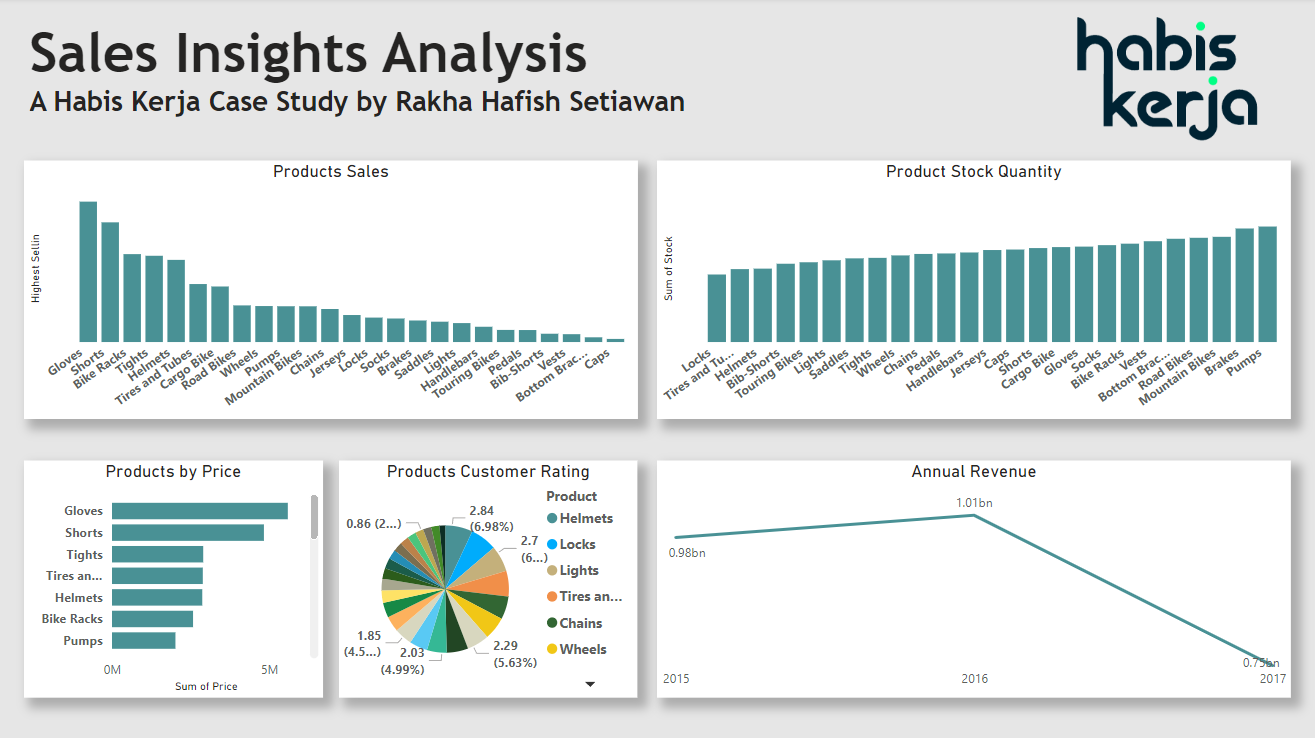

What the dashboard file says about the page in this screenshot:
{"tool":"powerbi","page":{"name":"Sales Insights","canvas":[1280,720],"ordinal":0},"visuals":[{"type":"clusteredBarChart","title":"Products by Price","fields":{"Category":["Sheet1.Product"],"Y":["Sum(Sheet1.Price)"]},"box":[26.2,432,289.5,267.6],"z":0},{"type":"pieChart","title":"Products Customer Rating","fields":{"Category":["Sheet1.Product"],"Y":["Sum(Sheet1.Rating)"]},"box":[331.6,432,289.5,267.6],"z":1000},{"type":"lineChart","title":"Annual Revenue","fields":{"Y":["Sum(Sheet1.Revenue)"],"Category":["Sheet1.Production Year"]},"box":[640,432,615.3,270],"z":2000},{"type":"clusteredColumnChart","title":"Products Sales","fields":{"Category":["Sheet1.Product"],"Y":["Sum(Sheet1.Revenue)"]},"box":[25.9,139.1,595.4,270.2],"z":3000},{"type":"columnChart","title":"Products Stock Quantity","fields":{"Category":["Sheet1.Product"],"Y":["Sum(Sheet1.Stock)"]},"box":[640.7,140.8,614.8,270],"z":4000},{"type":"slicer","fields":{"Values":["Sheet1.Product"]},"box":[26.1,15.9,197.5,105.7],"z":5000},{"type":"textbox","box":[658.9,16,578.9,98.9],"z":6000},{"type":"slicer","fields":{"Values":["Sheet1.Production Year"]},"box":[245.8,16,375.3,106.2],"z":7000}]}

Visuals, with their boxes in screenshot pixels (x1, y1, x2, y2), scaled from the page's 1280x720 canvas onto the 1315x738 screenshot:
"Products by Price" clusteredBarChart: [x1=27, y1=443, x2=324, y2=717]
"Products Customer Rating" pieChart: [x1=341, y1=443, x2=638, y2=717]
"Annual Revenue" lineChart: [x1=658, y1=443, x2=1290, y2=720]
"Products Sales" clusteredColumnChart: [x1=27, y1=143, x2=638, y2=420]
"Products Stock Quantity" columnChart: [x1=658, y1=144, x2=1290, y2=421]
slicer - Sheet1.Product: [x1=27, y1=16, x2=230, y2=125]
textbox: [x1=677, y1=16, x2=1272, y2=118]
slicer - Sheet1.Production Year: [x1=253, y1=16, x2=638, y2=125]
